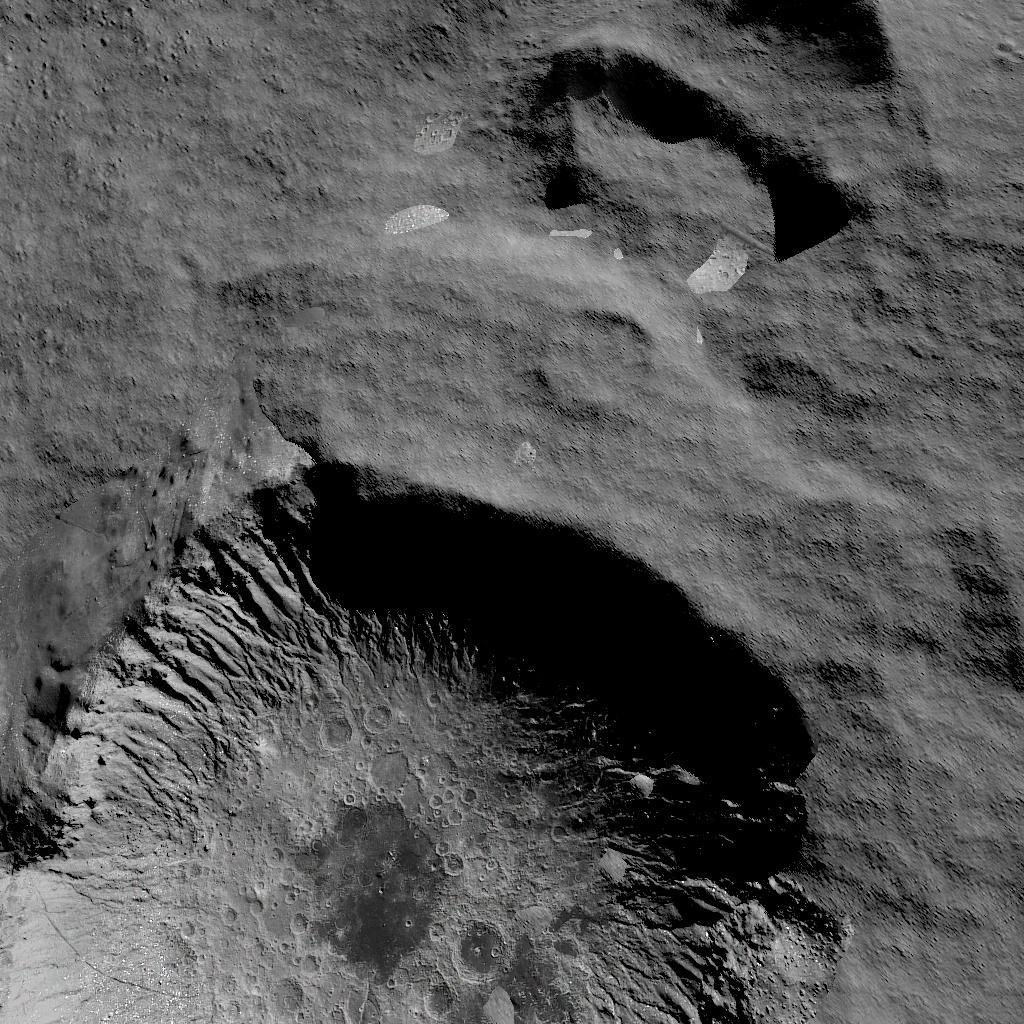Crater: (0, 436, 805, 1024), (515, 0, 940, 254), (528, 294, 647, 414)
Plan surface: (0, 0, 469, 420)
